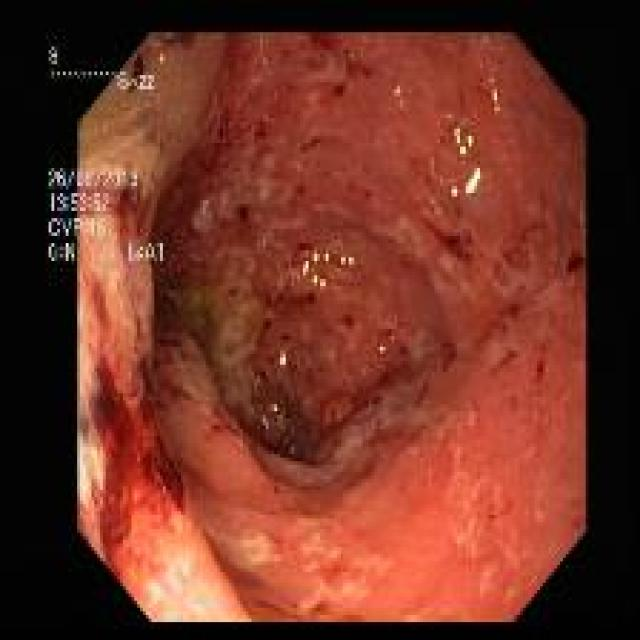ulcerative-colitis: (76, 33, 586, 622)
